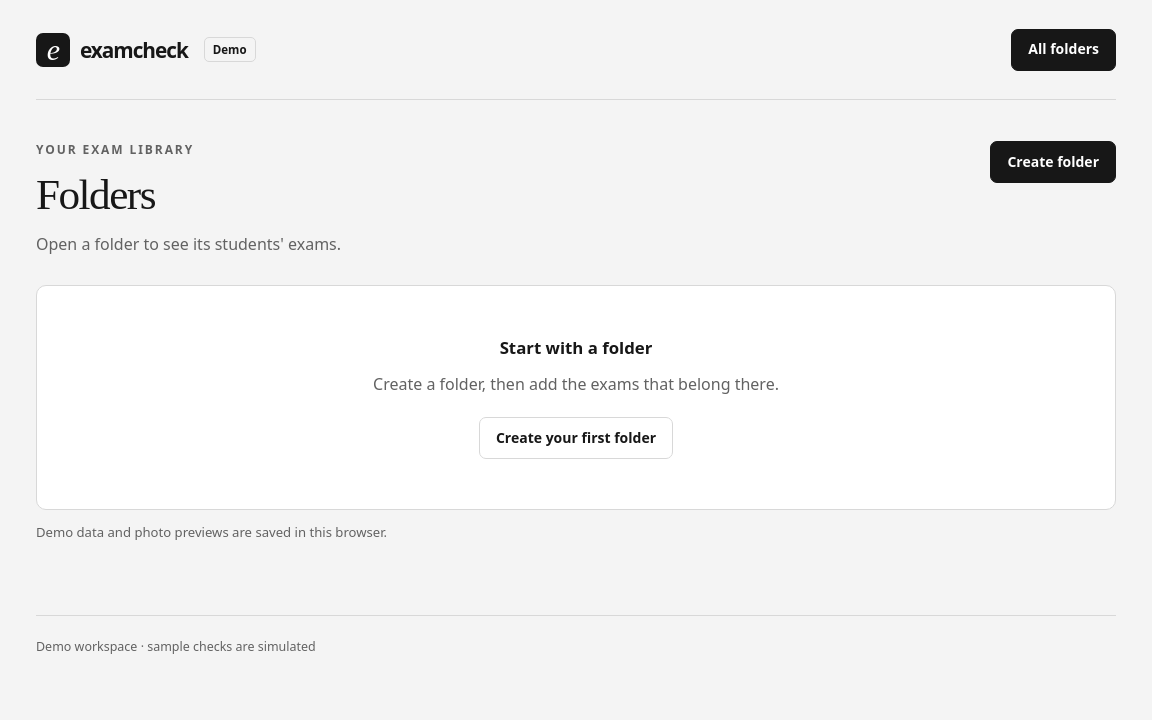
Test case: React workspace workflows › does not repeat a saved action when only its refresh fails
The width and height of the screenshot is (1152, 720).
Click the button "Create folder": [1053, 162] box [990,141,1116,183]
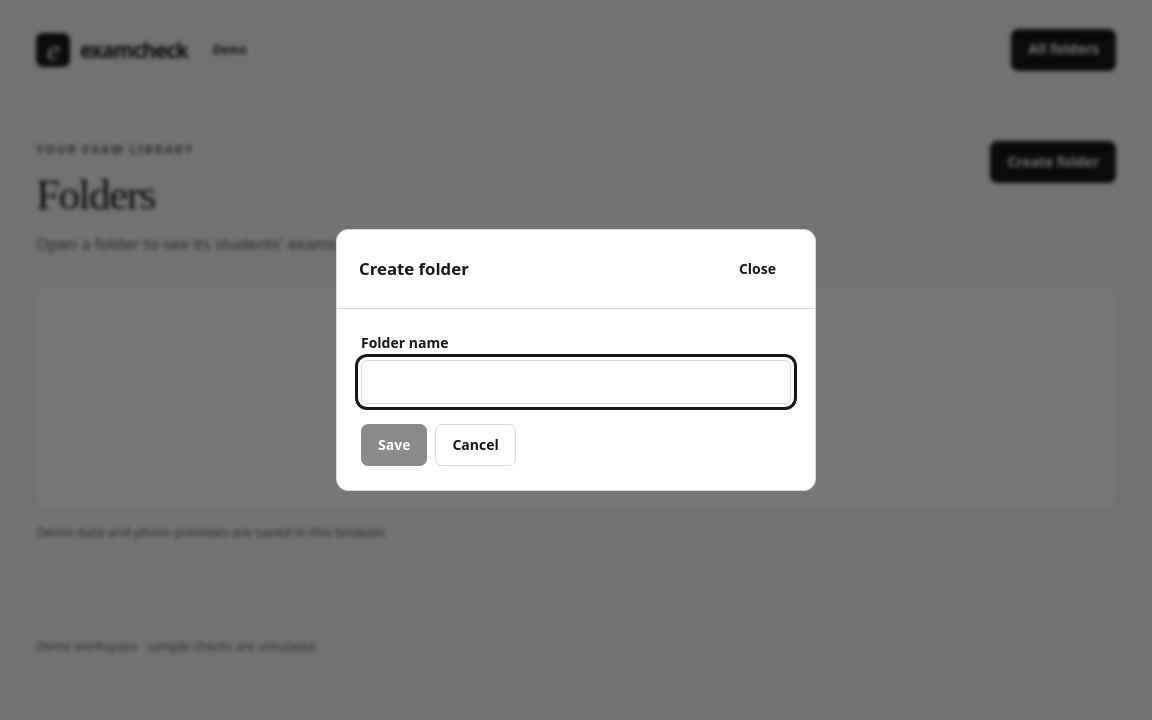
In the field labelled "Folder name": [576, 382] box [361,360,791,404], type "Saved class"
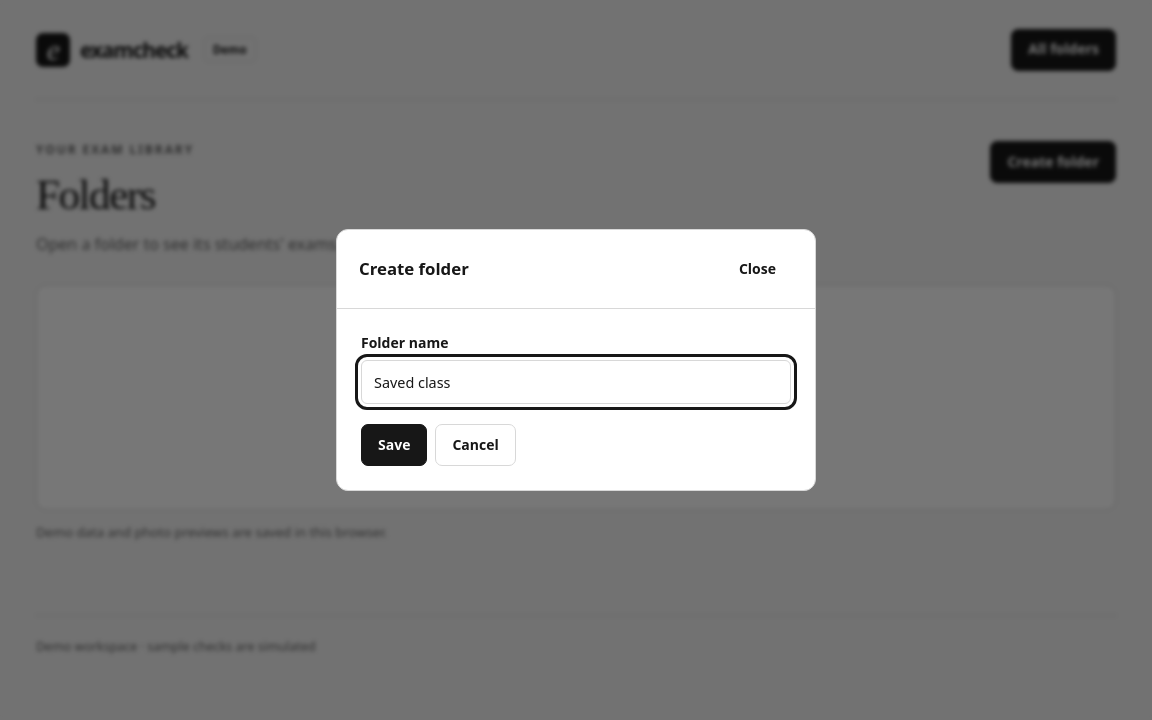
Click the button "Save": [394, 445] box [361,424,427,466]
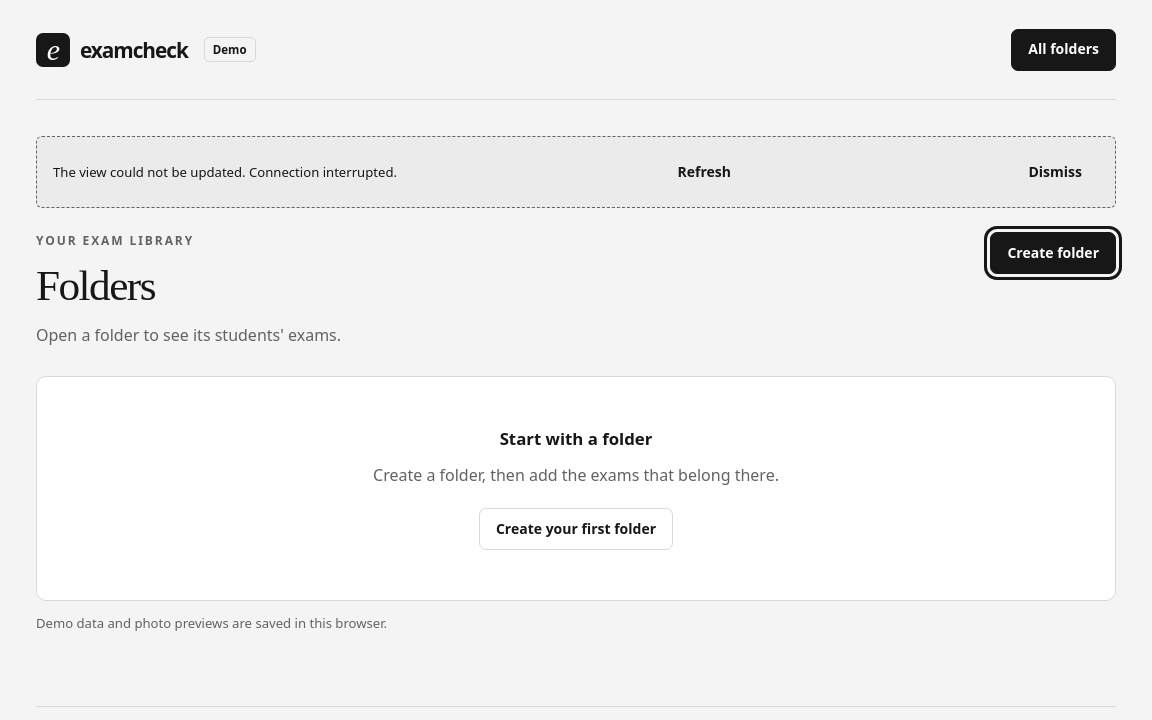
Result: the message shows "The view could not be updated." at [53,162,397,180]
Result: the dialog is gone
Click the button "Refresh": [704, 172] box [660,151,748,193]
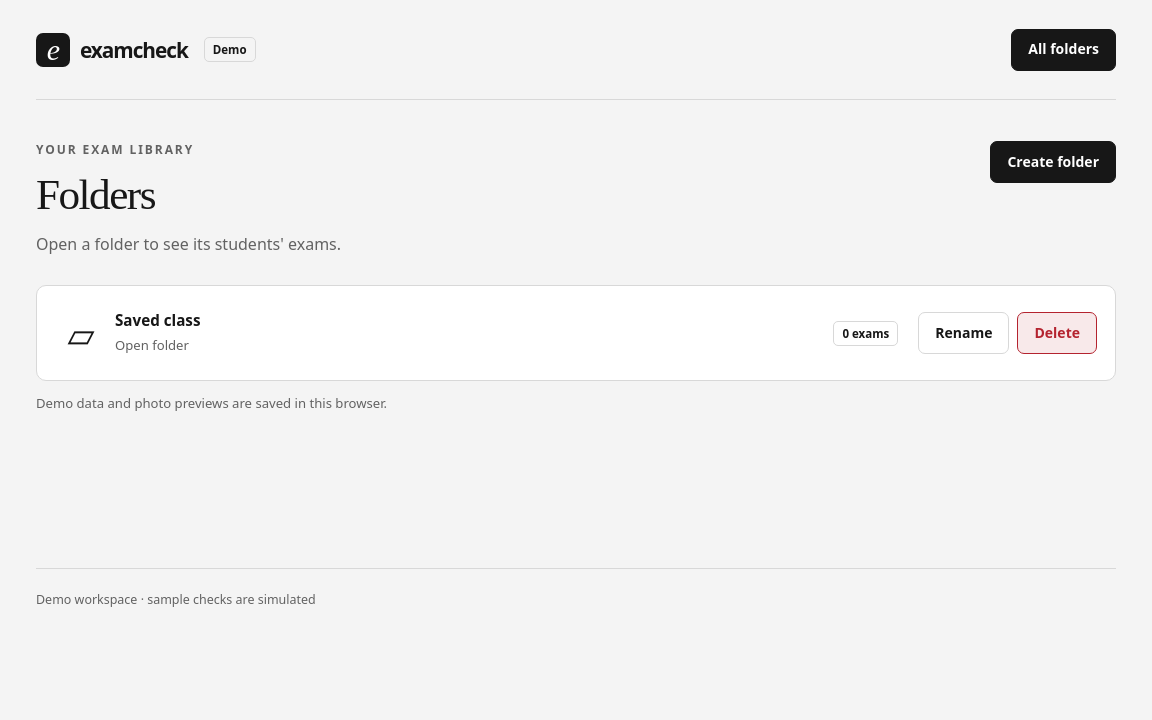
Result: the link "▱ Saved class Open folder 0 exams" is shown at [55,298,906,368]
Result: the message "The view could not be updated. Connection interrupted. Refresh Dismiss" is gone
